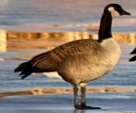goose: (13, 3, 132, 111)
